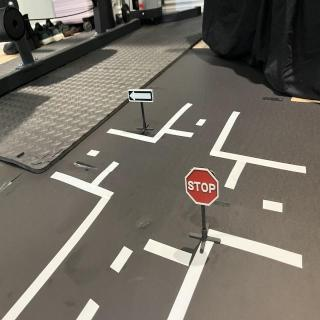sign_oneway_left: (128, 89, 156, 105)
sign_stop: (186, 169, 222, 209)
